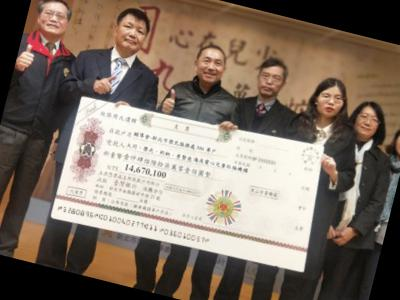without_mask: (113, 18, 150, 55), (35, 5, 70, 39), (193, 53, 227, 86), (313, 89, 346, 120), (255, 68, 287, 99), (352, 111, 381, 139), (392, 129, 400, 157)
